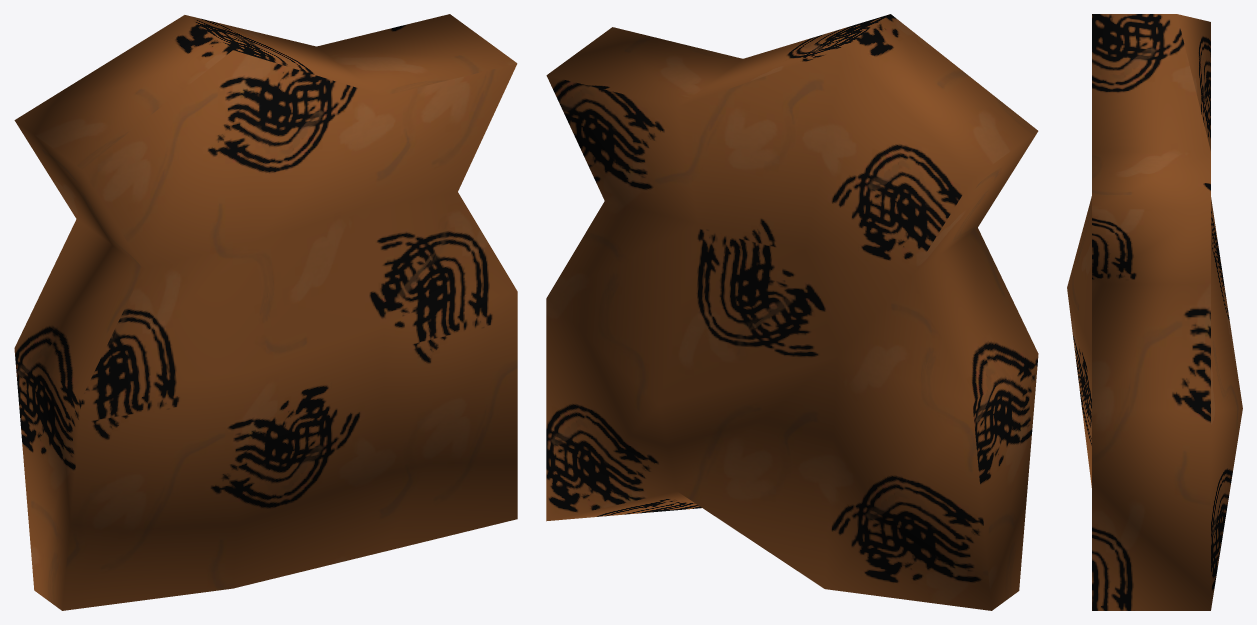
The model's file is item-bark-chip-ogog.glb.
The picture shows the model from 3 angles, left to right: view 1: azimuth 30°, elevation 25°; view 2: azimuth 150°, elevation 25°; view 3: azimuth 270°, elevation 25°; orthographic projection. The views are drawn at different scales.
Size of the model in its own units: 2 by 2.36 by 0.7938.
Materials: 1 (1 with a texture image).
